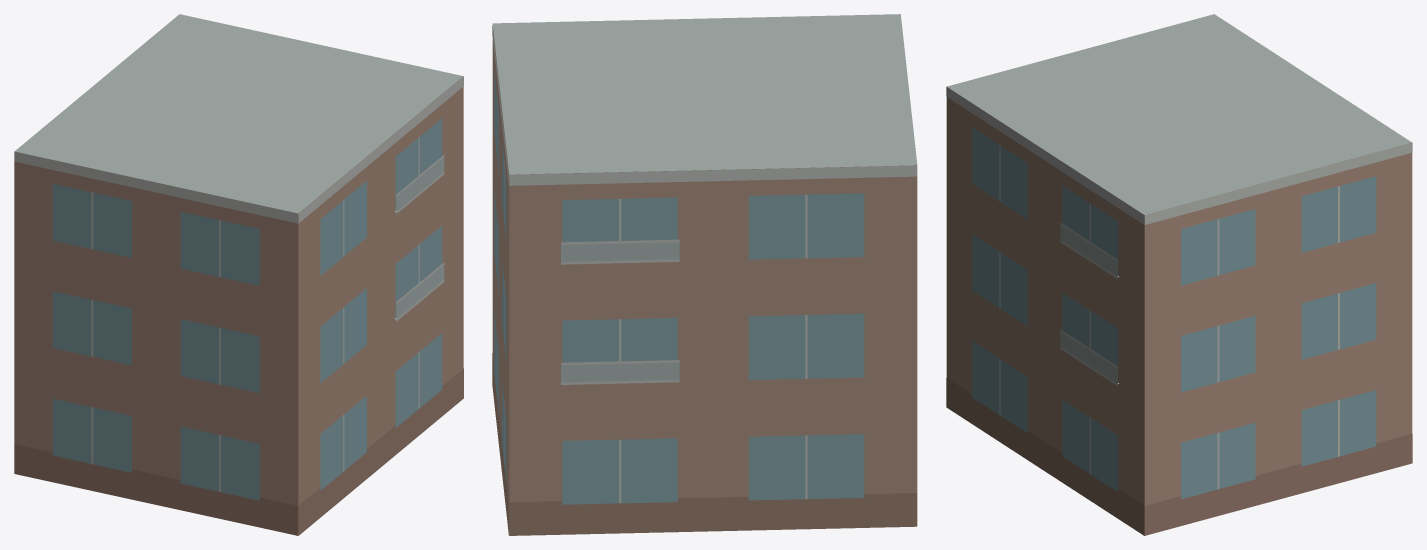
Rendered from survey-upis-32570360.glb.
The picture shows the model from 3 angles, left to right: view 1: azimuth 30°, elevation 25°; view 2: azimuth 150°, elevation 25°; view 3: azimuth 270°, elevation 25°; orthographic projection. The views are drawn at different scales.
Visible parts, largest first — view 1: survey-upis-32570360.tmp; view 2: survey-upis-32570360.tmp; view 3: survey-upis-32570360.tmp.
Part boxes in pixels (box(x1,y1,x2,y2)): survey-upis-32570360.tmp: box(14, 14, 463, 535); survey-upis-32570360.tmp: box(492, 14, 917, 535); survey-upis-32570360.tmp: box(946, 14, 1412, 535).
Size of the model in its own units: 10.5 by 7.8 by 10.28.
